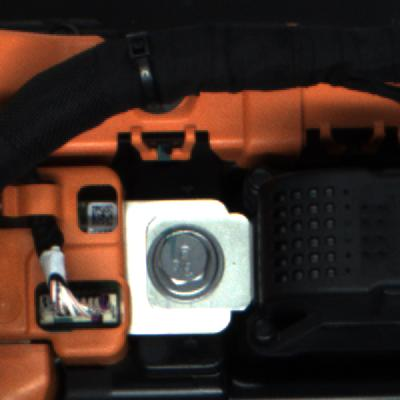nut_b: (141, 223, 227, 302)
